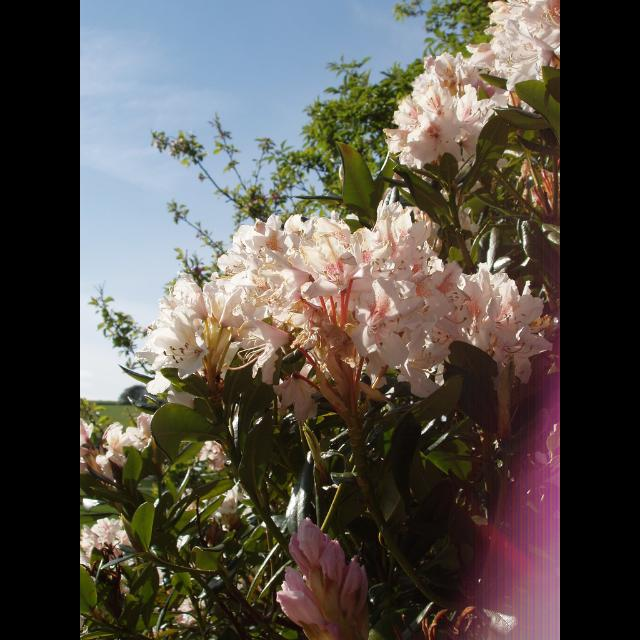Flower: (131, 184, 559, 433), (379, 0, 559, 170), (276, 516, 370, 640), (80, 413, 152, 499), (80, 515, 134, 595), (196, 482, 238, 546), (190, 440, 222, 472)
